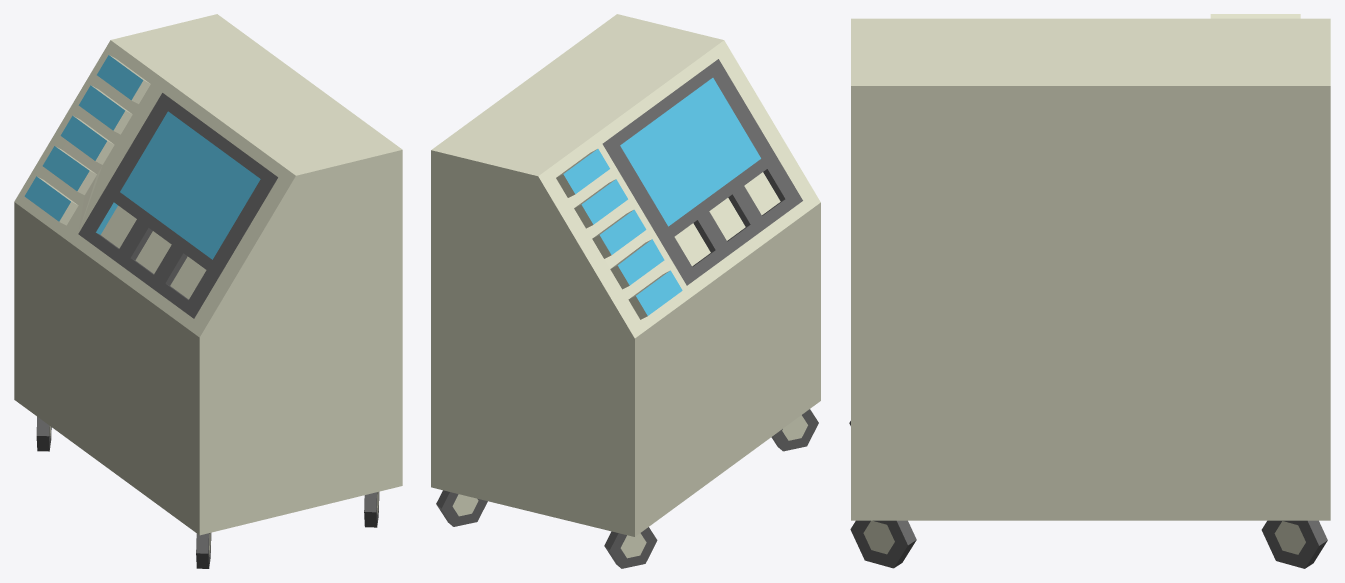
The model's file is pacient-monitor03-hospital.fbx.
3 renders of one model, left to right at view 1: azimuth 30°, elevation 25°; view 2: azimuth 150°, elevation 25°; view 3: azimuth 270°, elevation 25°, orthographic. The views are drawn at different scales.
Parts seen in each view (by area): view 1: pacient-monitor03-hospital; view 2: pacient-monitor03-hospital; view 3: pacient-monitor03-hospital.
Boxes of the visible parts, left/top/right/bottom form: pacient-monitor03-hospital: left=14, top=14, right=402, bottom=568; pacient-monitor03-hospital: left=431, top=14, right=820, bottom=568; pacient-monitor03-hospital: left=849, top=14, right=1330, bottom=568.
Size of the model in its own units: 83.78 by 147 by 132.
